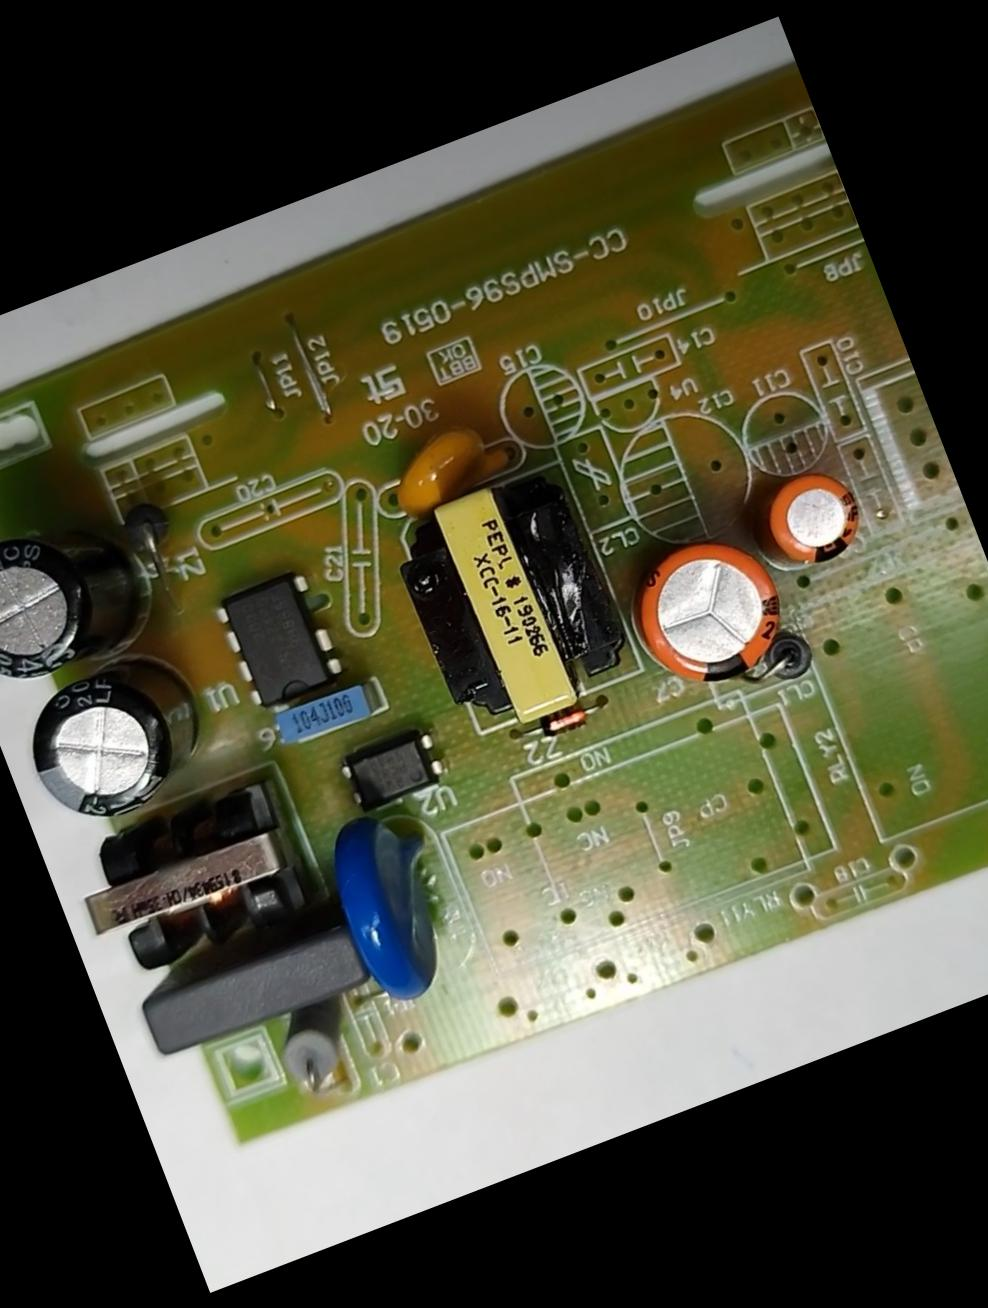Cap1: (621, 518, 800, 700)
Cap2: (743, 455, 879, 585)
Cap3: (3, 637, 232, 839)
Cap4: (0, 492, 175, 706)
MOSFET: (207, 564, 353, 718)
Mov: (310, 792, 486, 1015)
Resistor: (257, 991, 364, 1100)
Transformer: (384, 457, 648, 748), (58, 766, 330, 996)
